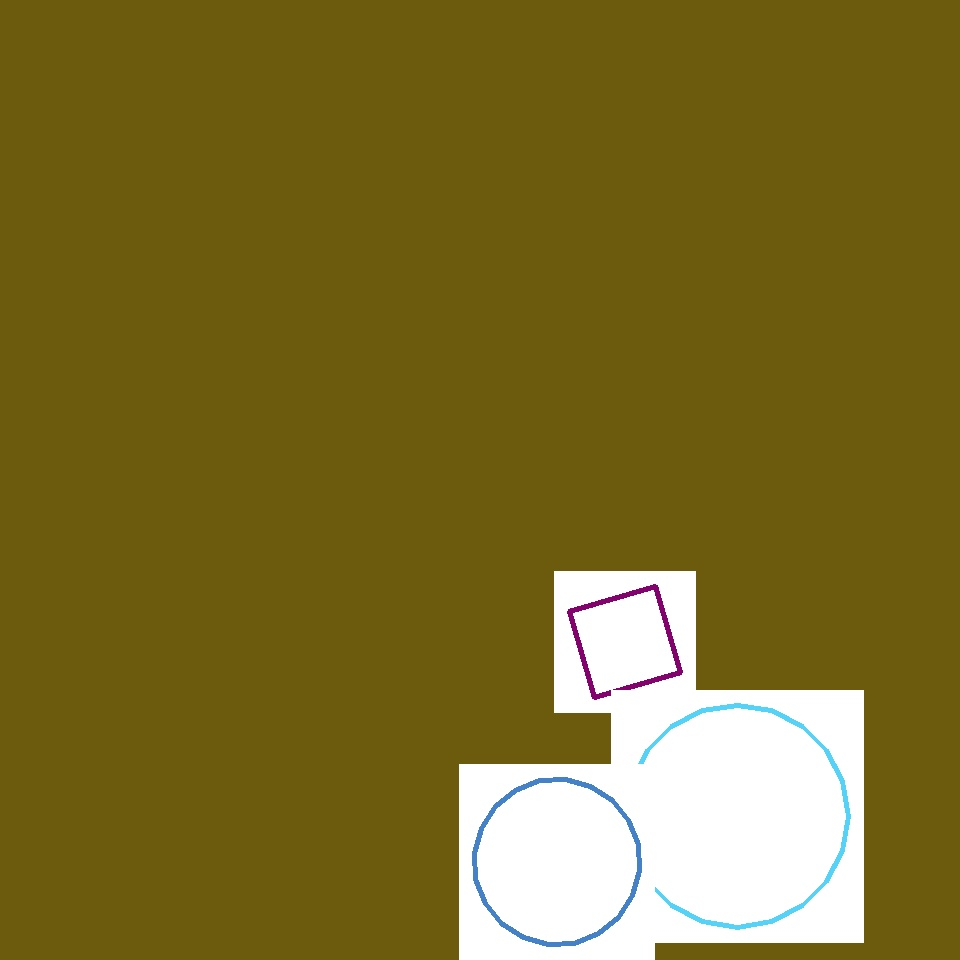square: (569, 586, 680, 698)
triangle: (296, 417, 528, 648), (626, 705, 848, 927), (474, 780, 640, 944), (15, 596, 164, 746)
